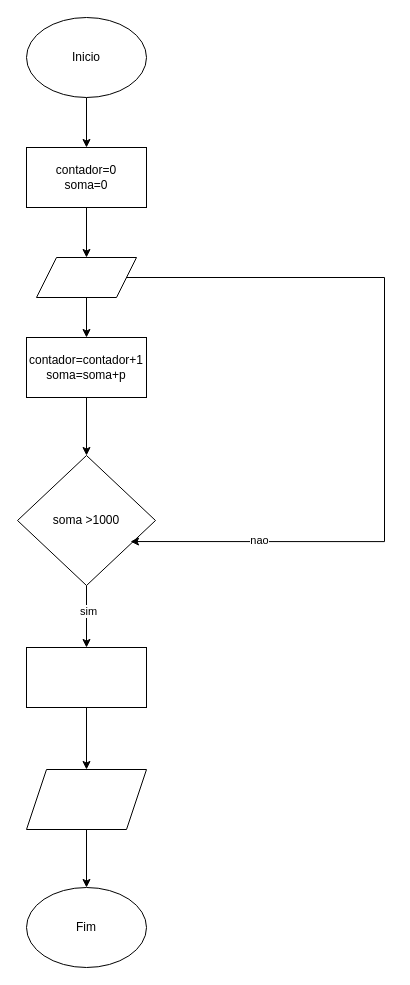
Image size: 410x985. Some labels were removed from this diagram. The shapes that lost their labels are listed below. From the top down, each one's centre as x and y in pixels, then its label:
At point (86, 277): "Ler N".
At point (86, 677): "Media=soma/contador".
At point (86, 799): "Escrver medía".
